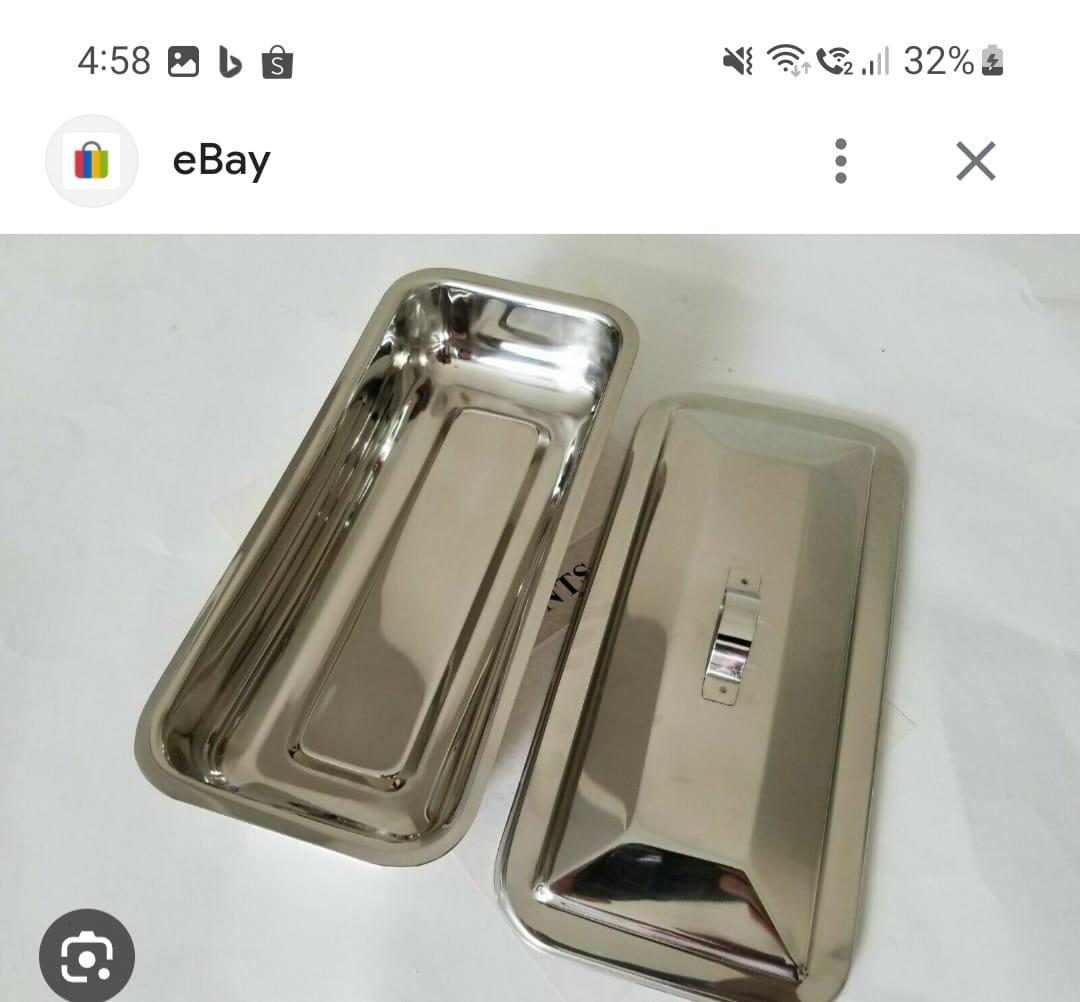Catheter Tray: (130, 259, 631, 866)
